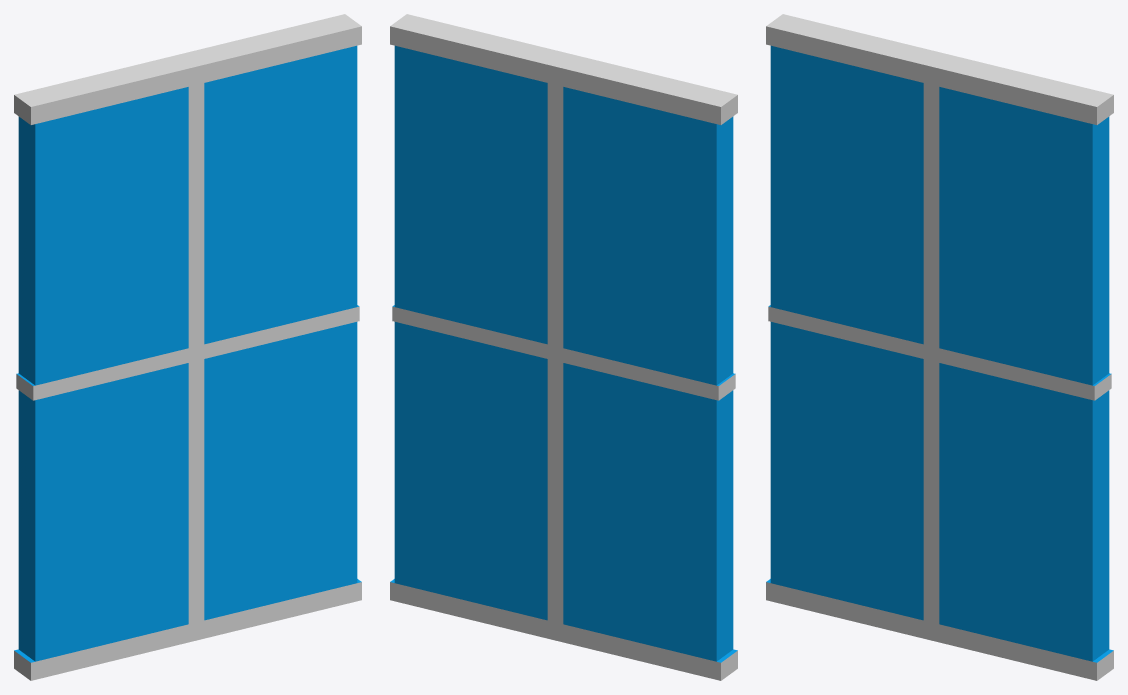
The model's file is Window01.fbx.
3 renders of one model, left to right at view 1: azimuth 30°, elevation 25°; view 2: azimuth 150°, elevation 25°; view 3: azimuth 330°, elevation 25°, orthographic.
Parts seen in each view (by area): view 1: Cube; view 2: Cube; view 3: Cube.
Part boxes in pixels (bbox=[...]): Cube: bbox=[14, 14, 361, 680]; Cube: bbox=[390, 14, 737, 680]; Cube: bbox=[766, 14, 1113, 680].
Size of the model in its own units: 112 by 186 by 9.88.
